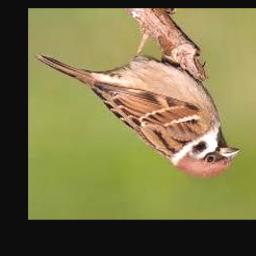Sparrow: (36, 34, 241, 177)
